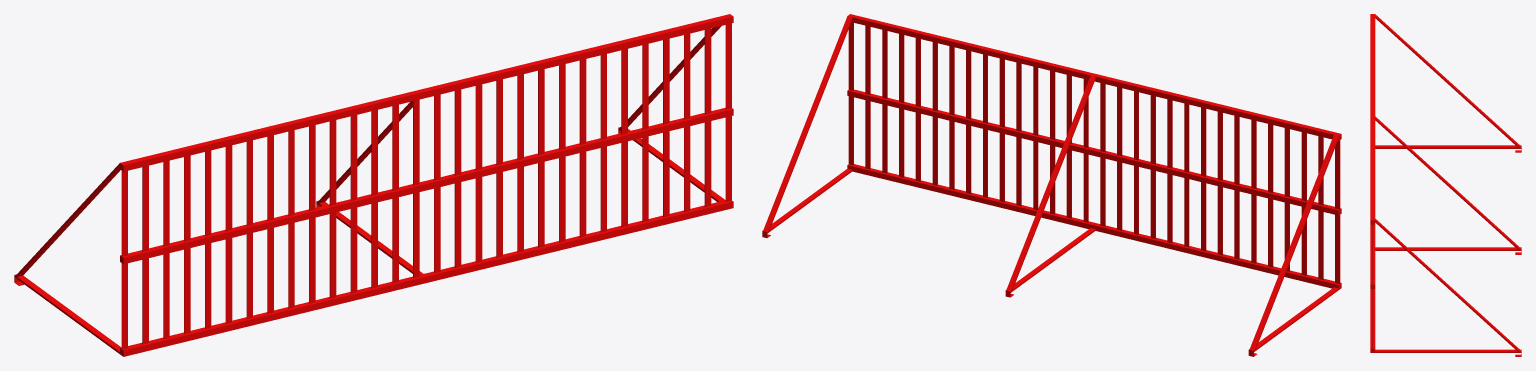
File: G-Gerüst-Absperr_dae.dae
3 renders of one model, left to right at view 1: azimuth 30°, elevation 25°; view 2: azimuth 150°, elevation 25°; view 3: azimuth 270°, elevation 25°, orthographic. The views are drawn at different scales.
Visible parts, largest first — view 1: 32yOTpy9fFWvl4XC9R27is; view 2: 32yOTpy9fFWvl4XC9R27is; view 3: 32yOTpy9fFWvl4XC9R27is.
Boxes of the visible parts, x1=… form: 32yOTpy9fFWvl4XC9R27is: x1=14, y1=14, x2=733, y2=356; 32yOTpy9fFWvl4XC9R27is: x1=762, y1=14, x2=1341, y2=356; 32yOTpy9fFWvl4XC9R27is: x1=1370, y1=14, x2=1521, y2=356.
Bounding box in the file's own units: 3 × 0.93 × 0.926.
